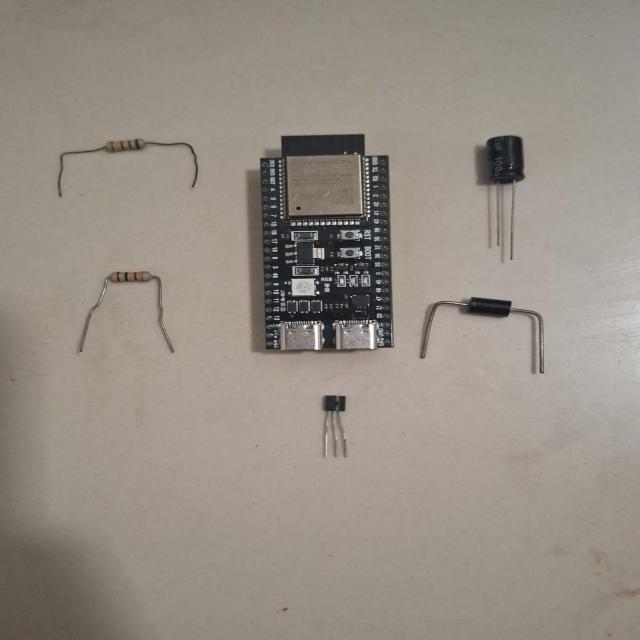Capacitor: (475, 136, 524, 260)
Diodo: (420, 297, 544, 374)
ESP32: (260, 135, 393, 352)
Resistencia: (57, 137, 199, 197), (78, 270, 174, 353)
Transistor: (322, 395, 348, 458)
